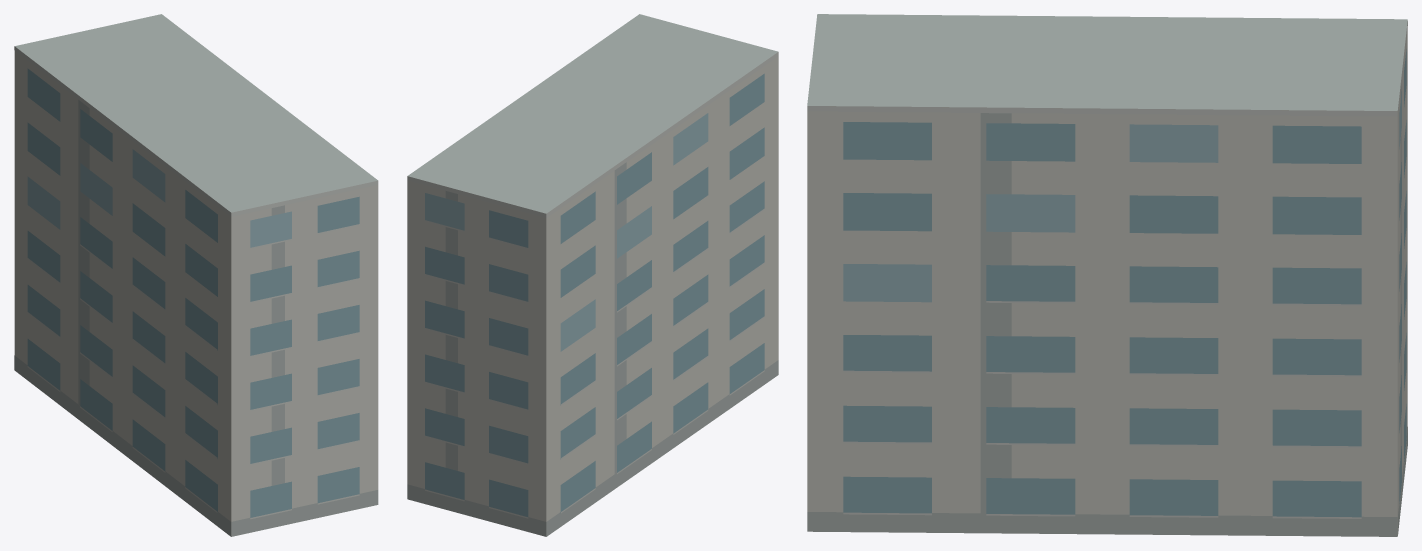
File: survey-upis-32825894.glb
The picture shows the model from 3 angles, left to right: view 1: azimuth 30°, elevation 25°; view 2: azimuth 150°, elevation 25°; view 3: azimuth 270°, elevation 25°; orthographic projection. The views are drawn at different scales.
Visible parts, largest first — view 1: survey-upis-32825894.tmp; view 2: survey-upis-32825894.tmp; view 3: survey-upis-32825894.tmp.
Part boxes in pixels (x1,y1,x2,y2): survey-upis-32825894.tmp: [14, 14, 378, 536]; survey-upis-32825894.tmp: [407, 14, 778, 536]; survey-upis-32825894.tmp: [807, 14, 1407, 536].
Bounding box in the file's own units: 8.96 × 18.3 × 23.41.
